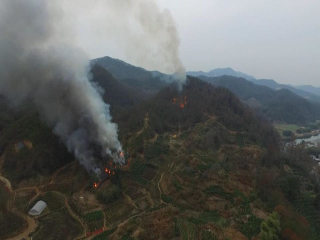smoke: (1, 1, 187, 179)
